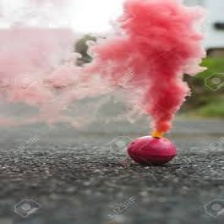smoke: (113, 5, 196, 134), (17, 15, 70, 101)
